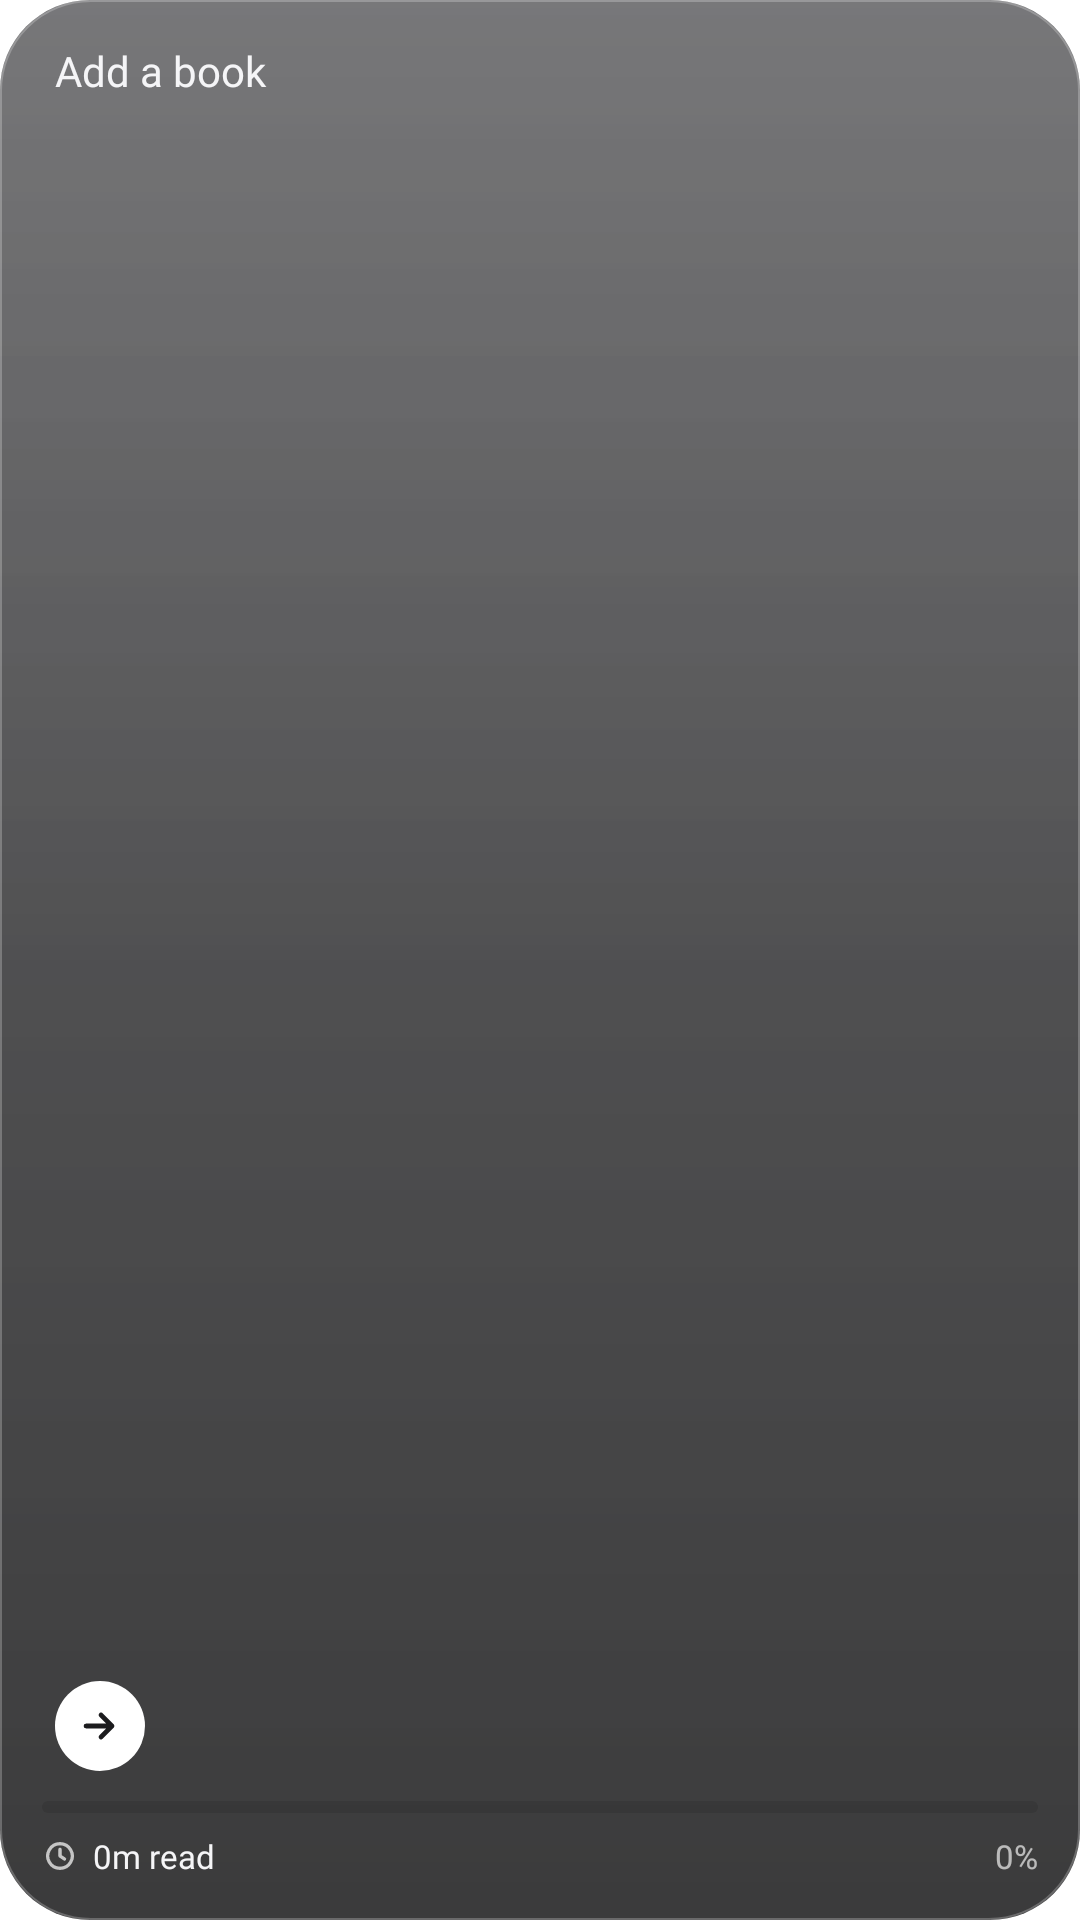

Icon click points for this 1080*1920 phone screenshot, format (x,y):
clock: (60,1856)
Continue: (100,1726)
